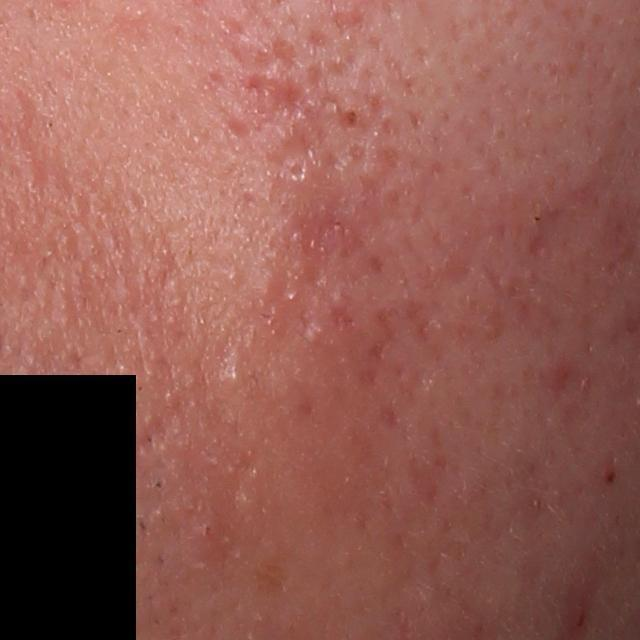atrophic_scar: (243, 72, 316, 125)
comedo: (214, 359, 246, 390)
